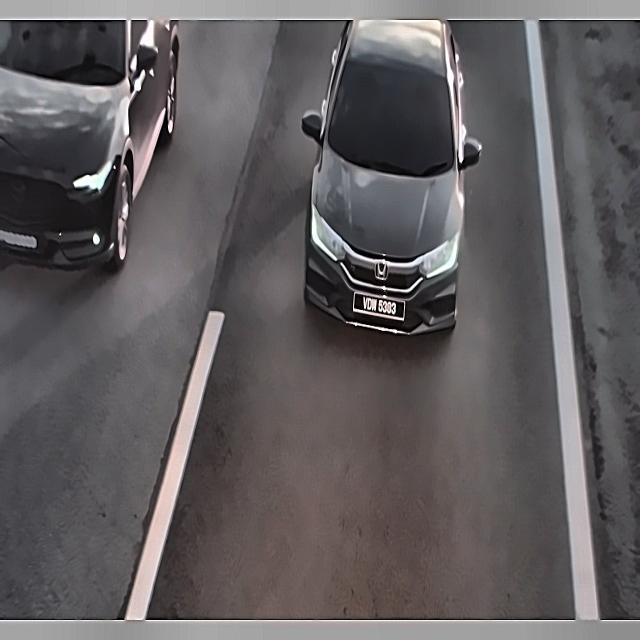car: (0, 216, 49, 262), (352, 287, 410, 324)
